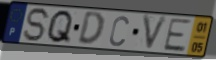C: (108, 14, 131, 48)
D: (76, 11, 105, 47)
E: (161, 17, 193, 53)
Q: (45, 9, 75, 46)
S: (22, 7, 53, 43)
V: (141, 14, 170, 53)
